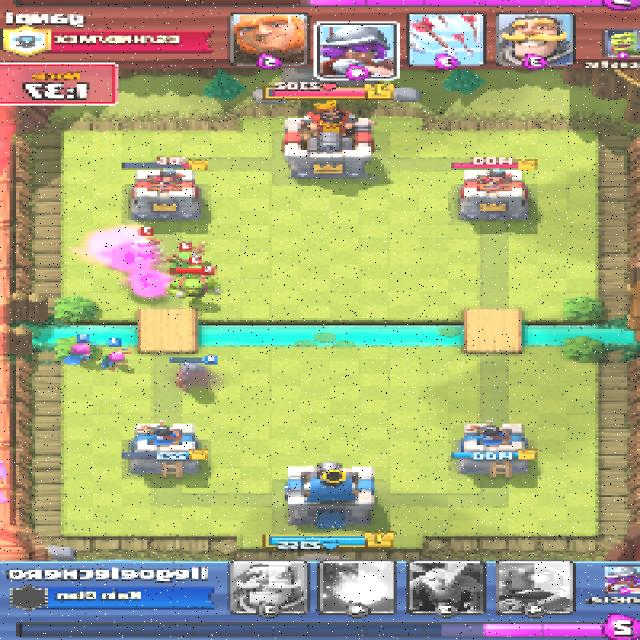Enemy-SpearGoblin: (129, 237, 160, 260), (180, 264, 215, 279), (170, 252, 198, 270)
Player-Archer: (98, 348, 137, 368), (59, 343, 96, 364)
Player-GoblinCage: (163, 280, 224, 300)
Player-Musketeer: (171, 361, 210, 389)
